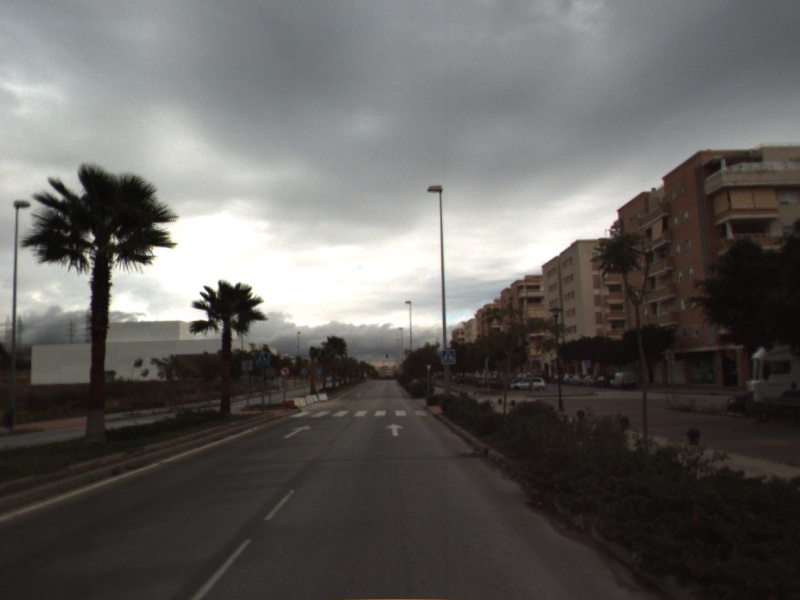STRAIGHT: (281, 423, 312, 440), (383, 421, 405, 438)
